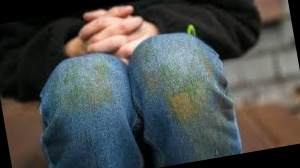earth: (144, 61, 206, 97), (63, 68, 114, 110), (167, 89, 200, 122)
